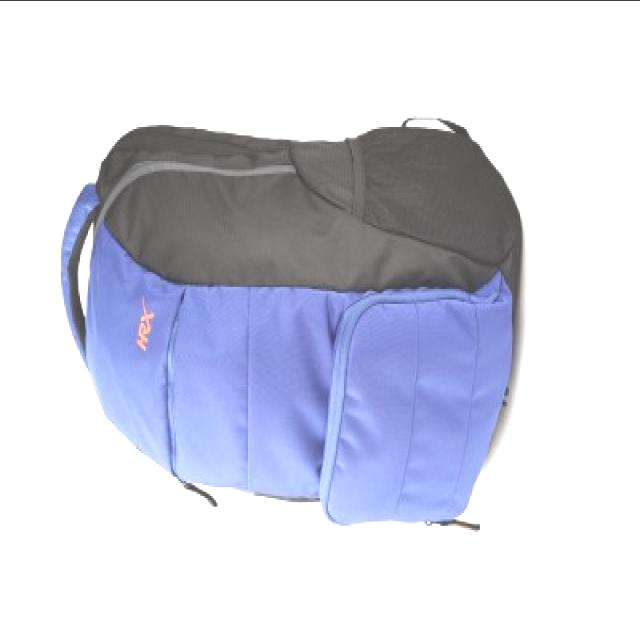backpack: (59, 117, 523, 535)
